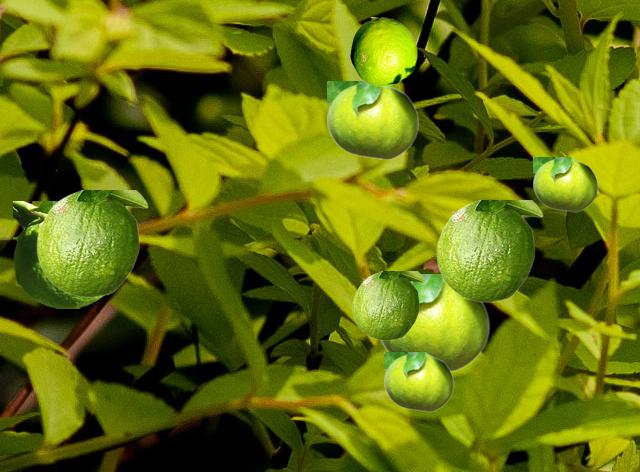dalandan: (36, 190, 147, 296), (436, 200, 542, 301), (379, 274, 489, 371), (13, 201, 104, 307), (327, 81, 418, 159), (352, 271, 424, 339), (350, 17, 416, 85), (384, 352, 453, 411), (533, 157, 597, 211)
